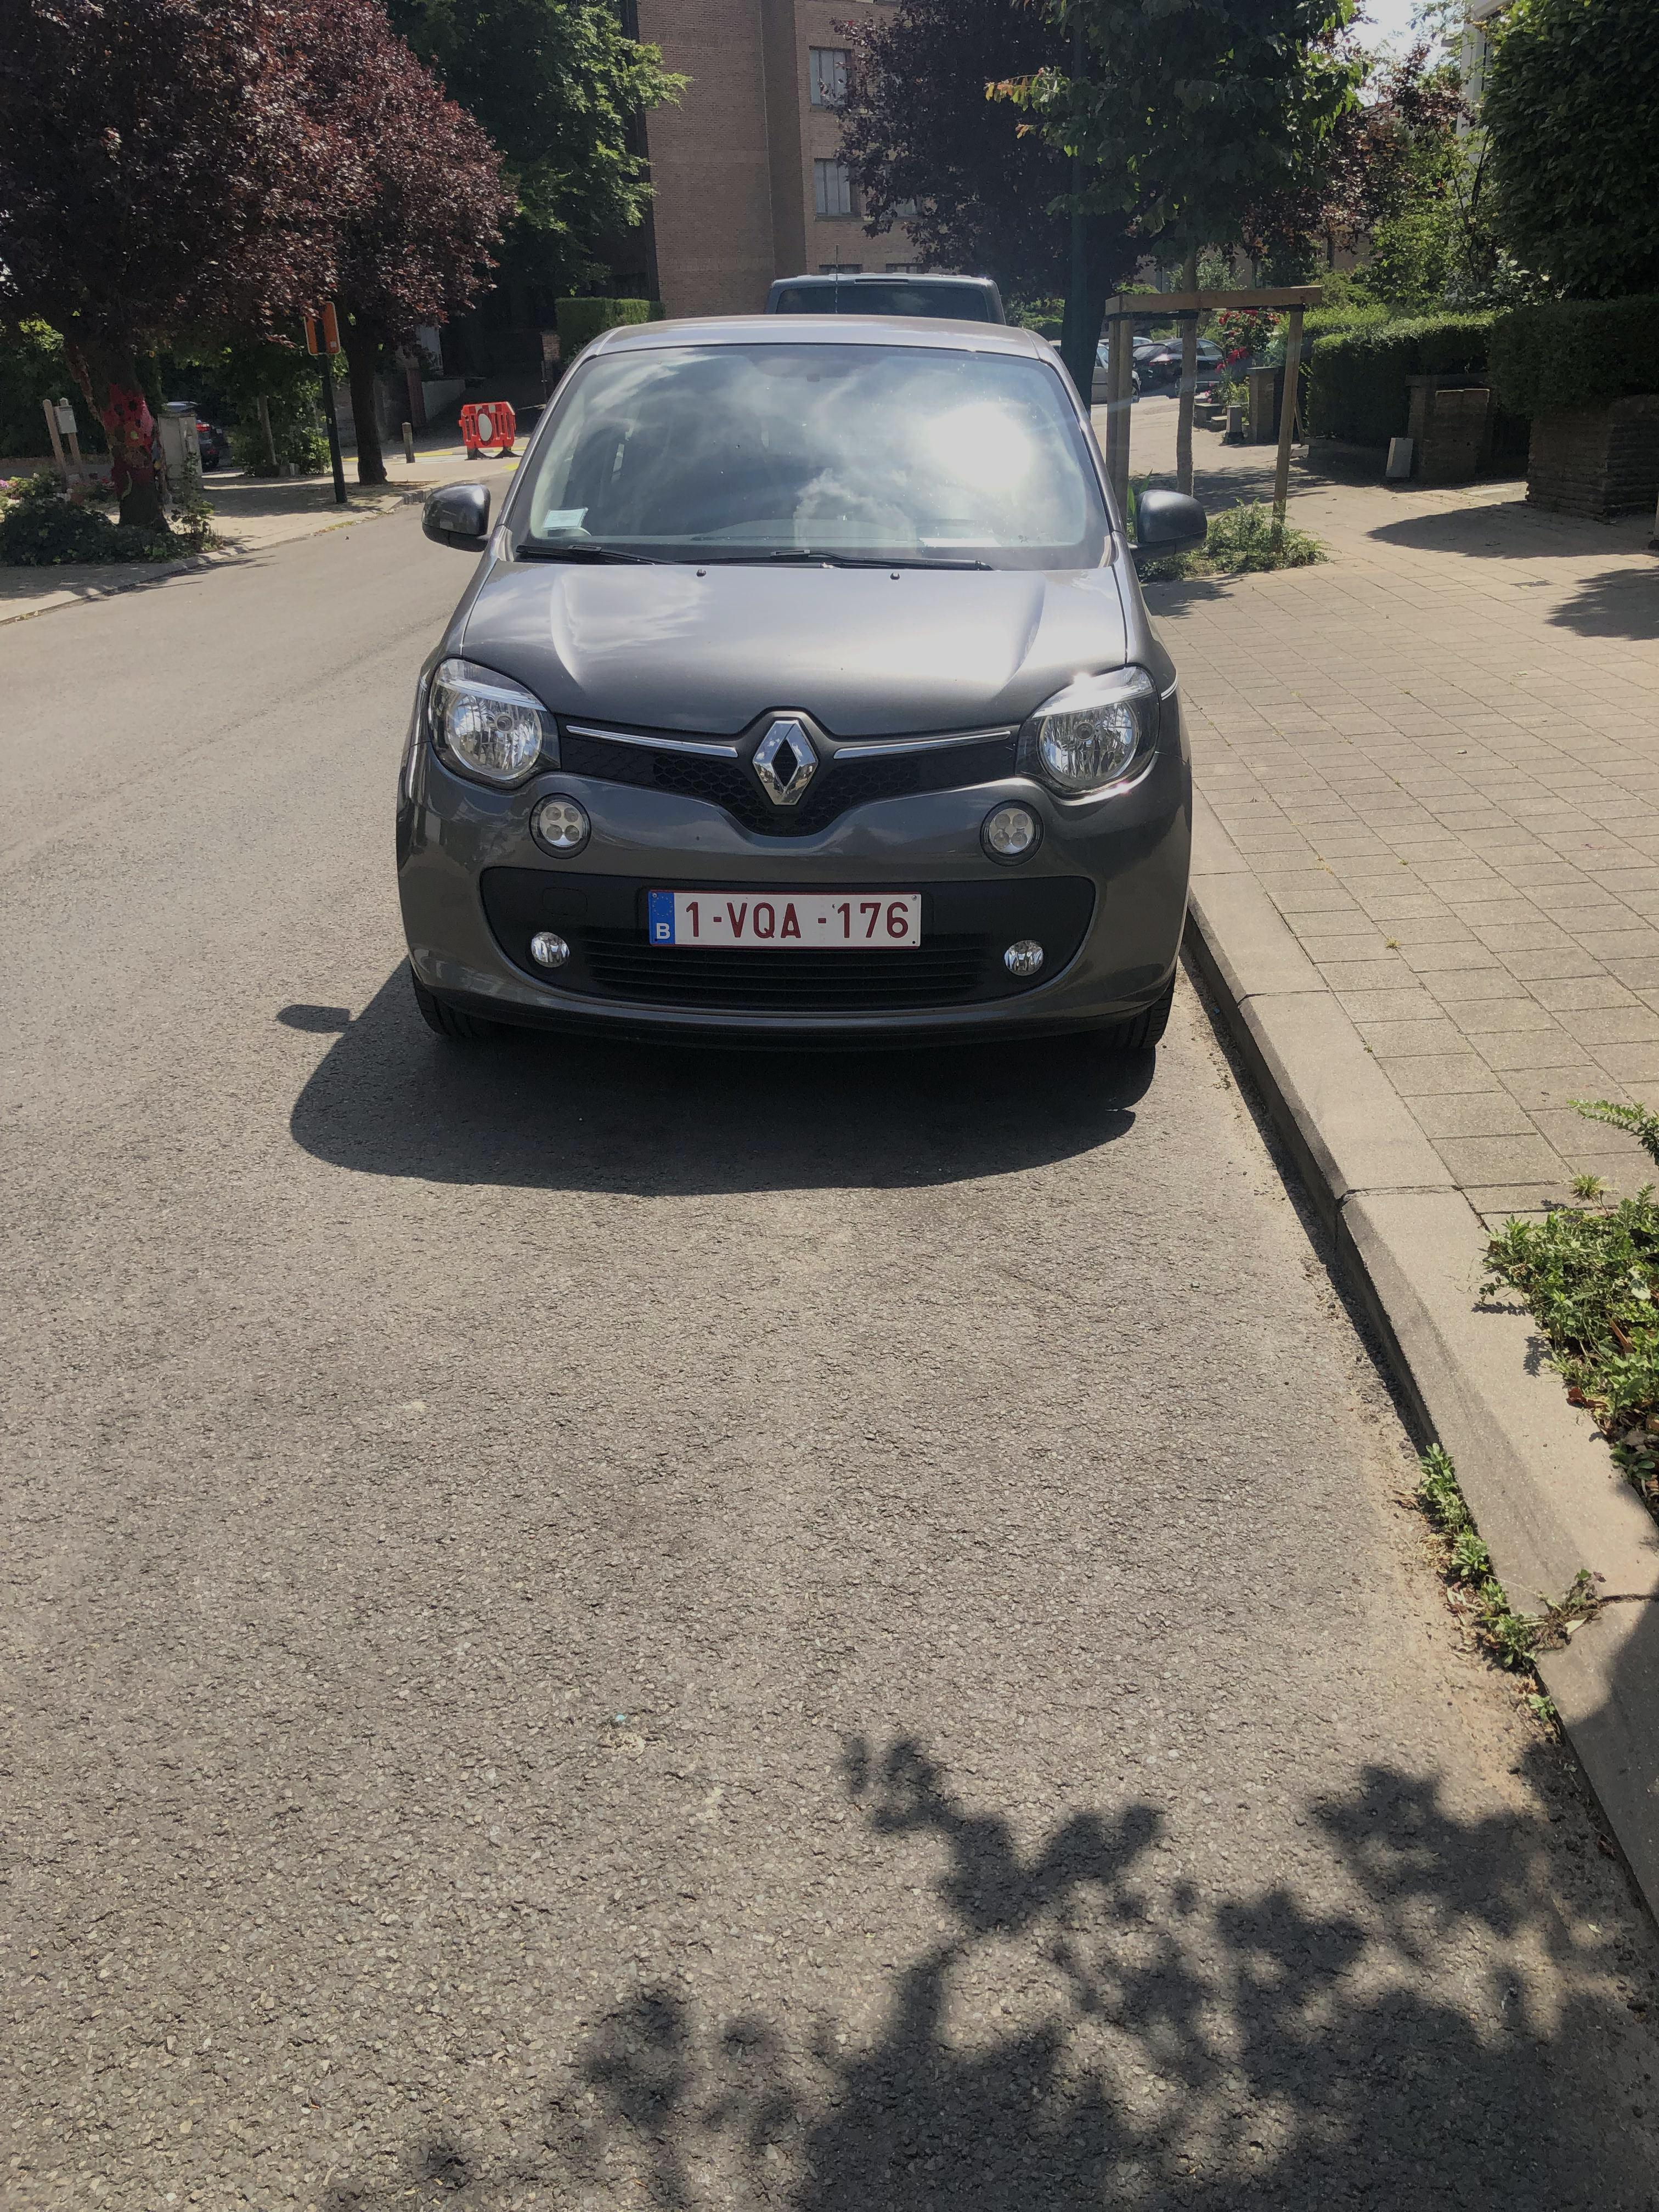plate: (613, 872, 958, 965)
